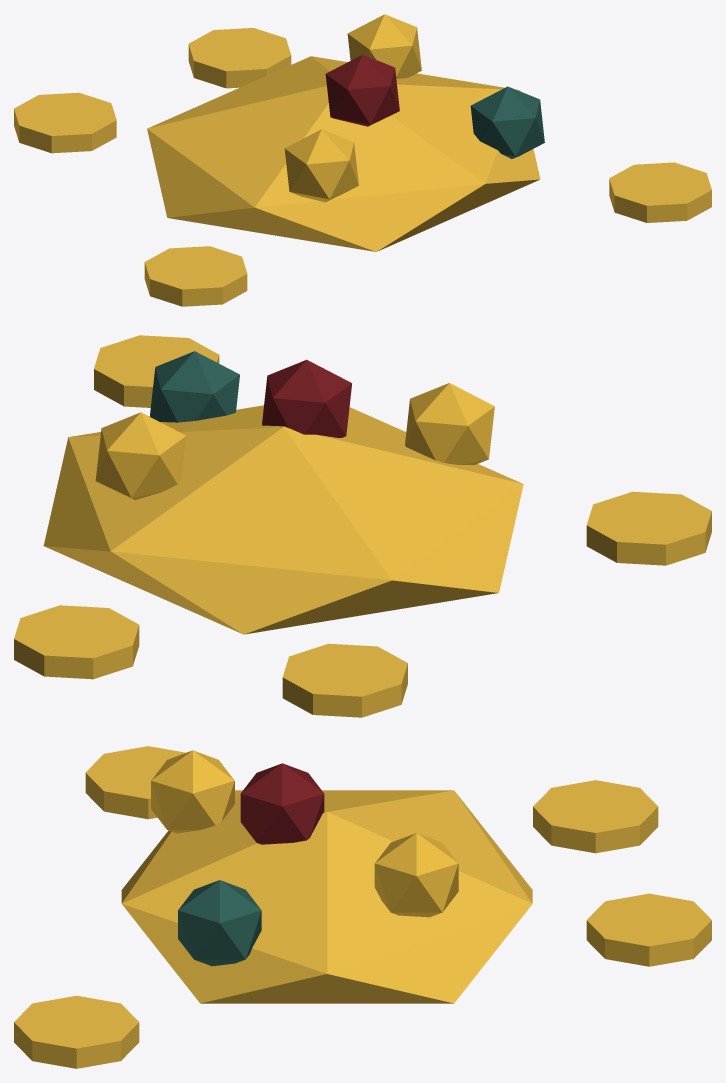
Rendered from Gold_Pile.glb.
3 views of the same model, one above another, from view 1: azimuth 30°, elevation 25°; view 2: azimuth 150°, elevation 25°; view 3: azimuth 270°, elevation 25° (orthographic). The views are drawn at different scales.
Parts seen in each view (by area): view 1: Gold_Pile; view 2: Gold_Pile; view 3: Gold_Pile.
Boxes of the visible parts, x1,y1,x2,y2 form: Gold_Pile: (14, 14, 711, 306); Gold_Pile: (14, 335, 711, 717); Gold_Pile: (14, 746, 711, 1068).
Bounding box in the file's own units: 0.8 × 0.195 × 0.78.
1 material, 1 textured.
